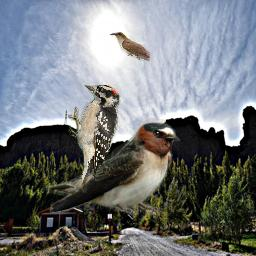Cuckoo: (109, 32, 150, 62)
Swallow: (46, 118, 182, 218)
Woodpecker: (68, 85, 121, 193)
